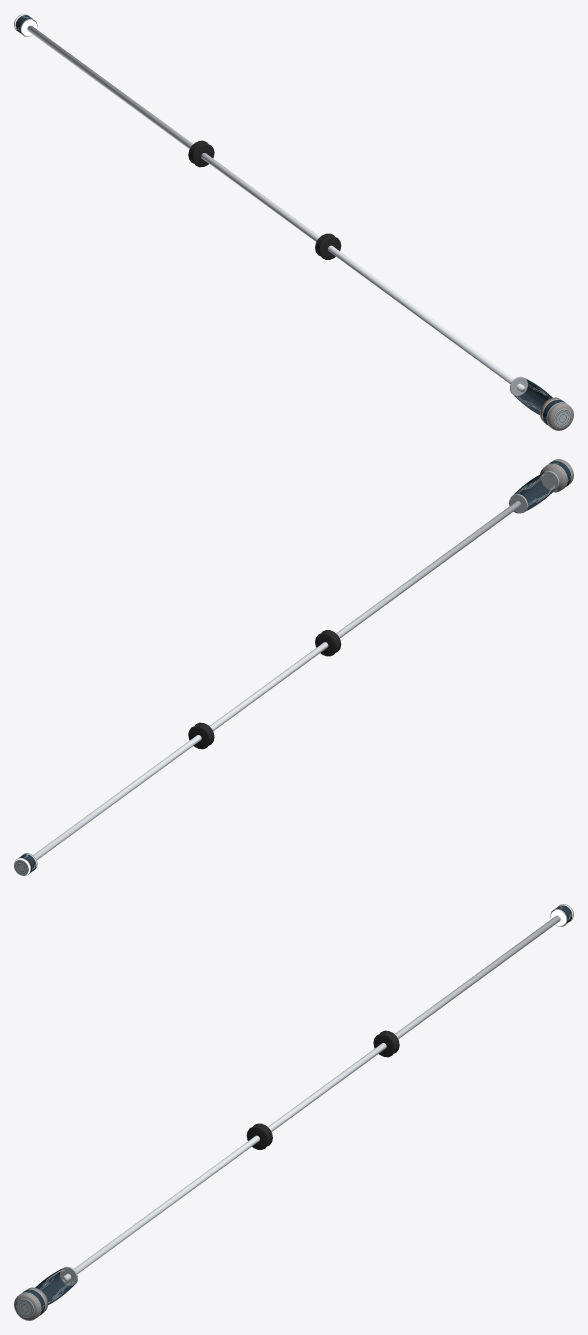
File: fuzeball_rod_2man.glb
3 views of the same model, one above another, from view 1: azimuth 30°, elevation 25°; view 2: azimuth 150°, elevation 25°; view 3: azimuth 330°, elevation 25° (orthographic).
Visible parts, largest first — view 1: rod2_bar.002, rod2_handle_silver_grip; view 2: rod2_bar.002, rod2_handle_silver_grip; view 3: rod2_bar.002, rod2_handle_silver_grip.
Boxes of the visible parts, box(x1,y1,x2,y2) form: rod2_bar.002: box(27, 25, 525, 391); rod2_handle_silver_grip: box(514, 378, 552, 414); rod2_bar.002: box(33, 501, 521, 859); rod2_handle_silver_grip: box(509, 472, 555, 513); rod2_bar.002: box(62, 915, 560, 1281); rod2_handle_silver_grip: box(35, 1268, 73, 1304).
Size of the model in its own units: 3.45 by 3.45 by 128.
